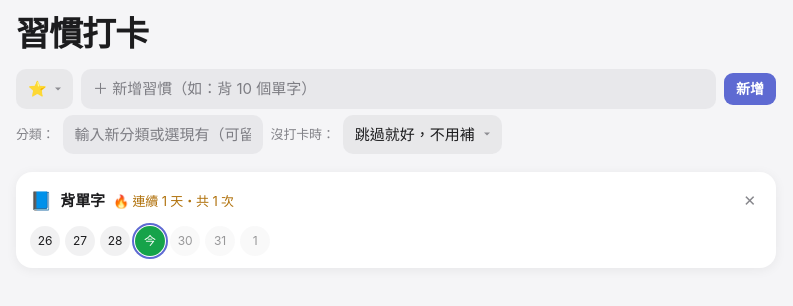
Test case: 習慣頁打卡／補卡／取消的寫入／刷新邊界 › 補卡／取消已寫入但刷新失敗時，提示對應實際動作
Step 1. Click the text "28" → (115, 241), box [100,226,130,256]
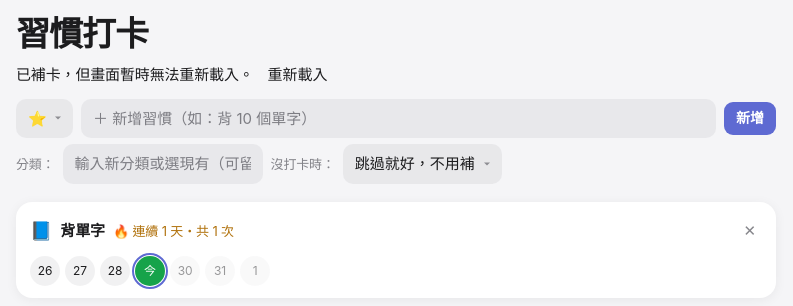
Result: the message shows "已補卡，但畫面暫時無法重新載入。" at [16,65,254,84]
Step 2. Click the text "今" → (150, 271), box [135,256,165,286]
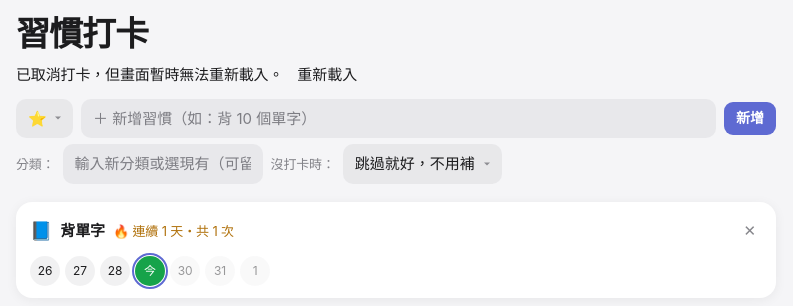
Result: the message shows "已取消打卡，但畫面暫時無法重新載入。" at [16,65,283,84]
